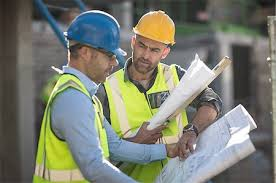Person_wearing_helmet: (59, 8, 126, 61), (127, 10, 182, 57)
